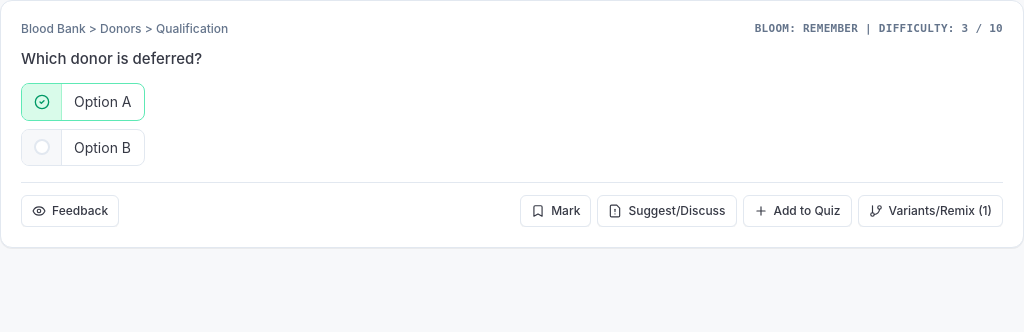
it: QuestionCard Mark/Marked panel › shows Mark when unmarked, opens pop-in options, and highlights Marked when active
Later steps or results of the test are not shown.
Click the button with aria-label "Mark question": (556, 211) 520,195 -> 591,227
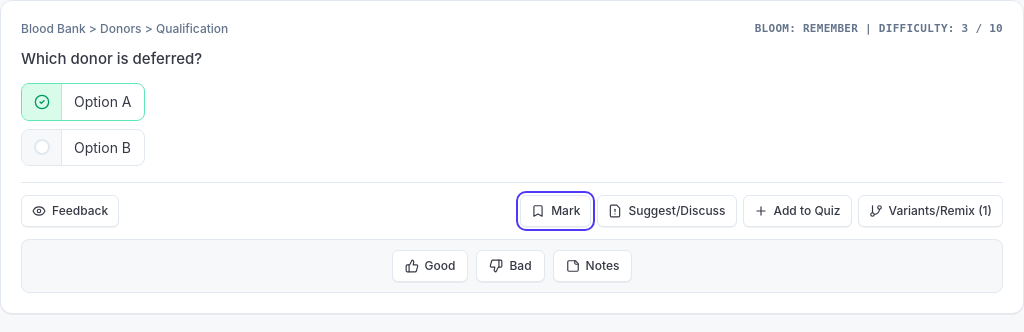
Expected: the button "Good" is shown, 392,250 -> 468,282
Expected: the button "Bad" is shown, 476,250 -> 545,282
Expected: the button "Notes" is shown, 553,250 -> 632,282
